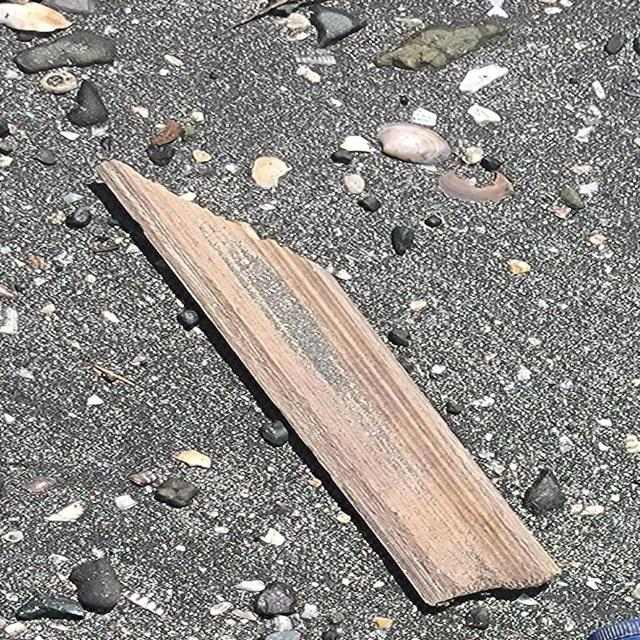wood_waste: (99, 159, 563, 608)
